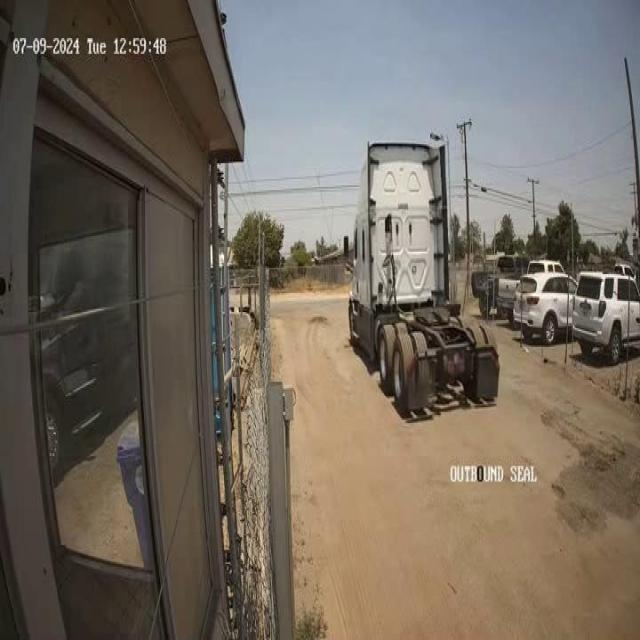BOBTAIL: (342, 135, 500, 418)
